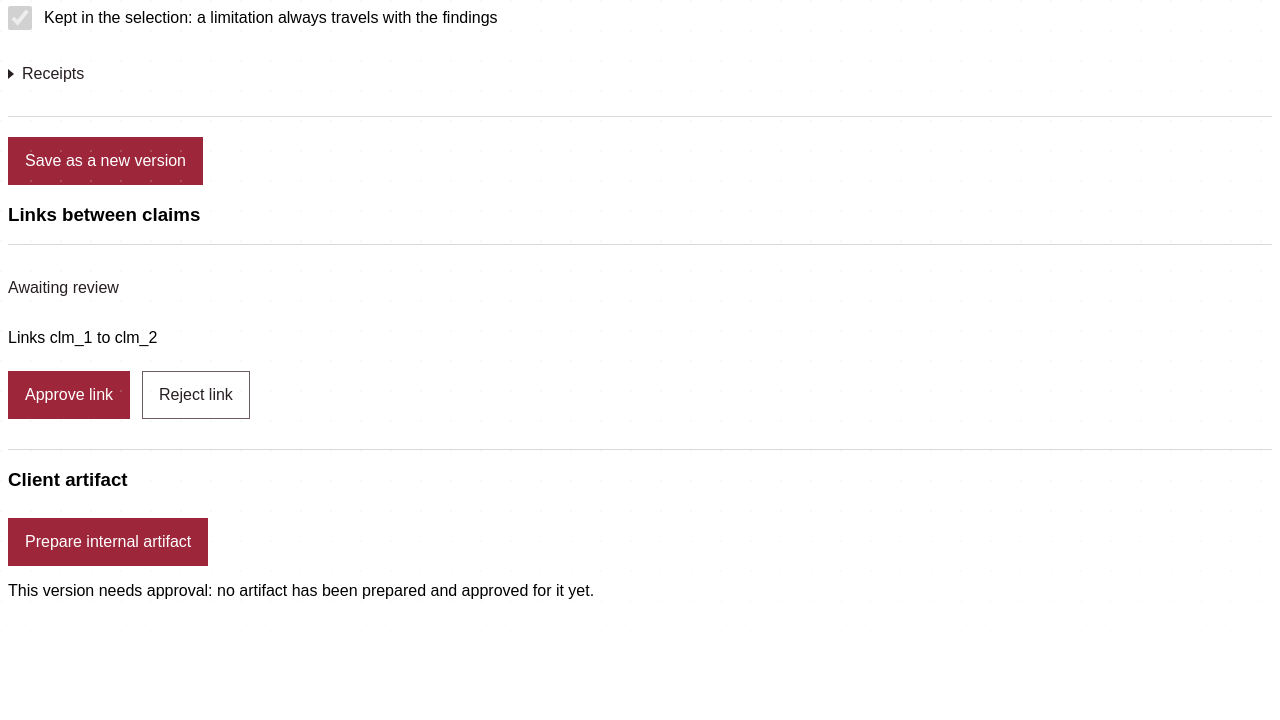
Test: the working sequence › a version conflict says a fresh approval is needed and reloads the latest version
The width and height of the screenshot is (1280, 720).
(page scrolled)
Click the button "Approve link" at [69, 395], box [8,371,130,419]
(page scrolled)
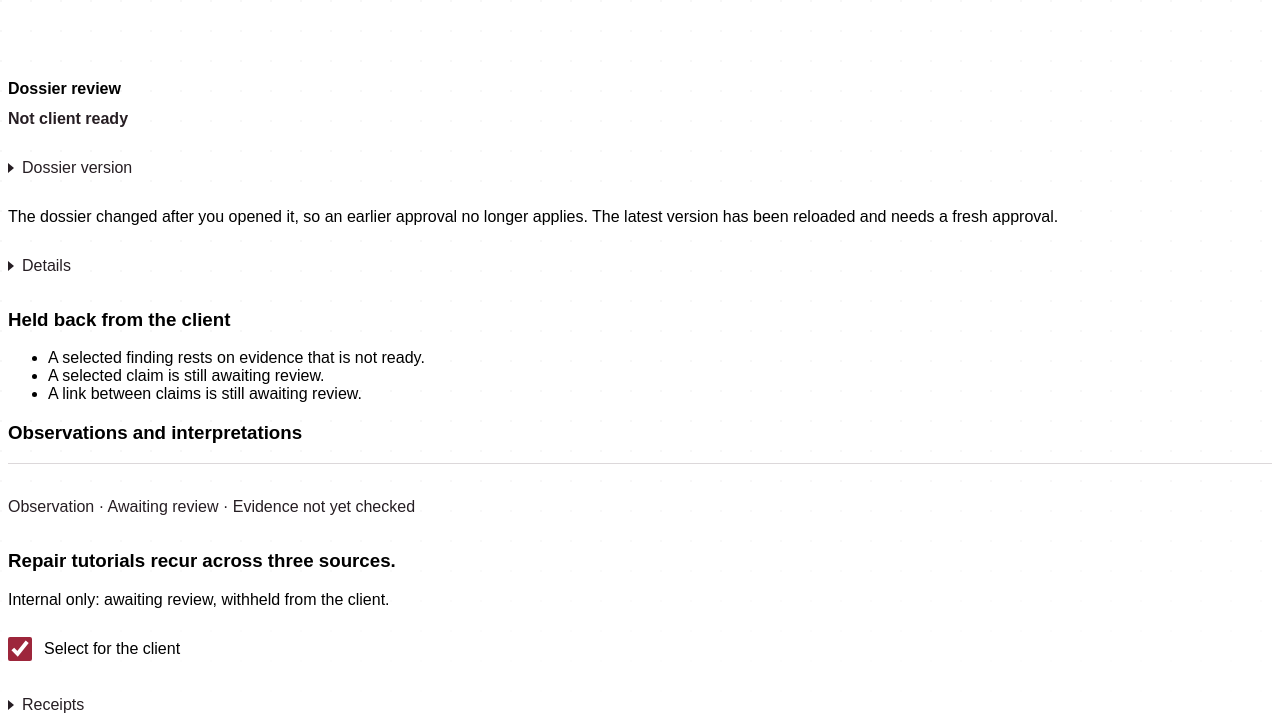
Now the message shows "fresh approval", box [8,208,1058,225]
